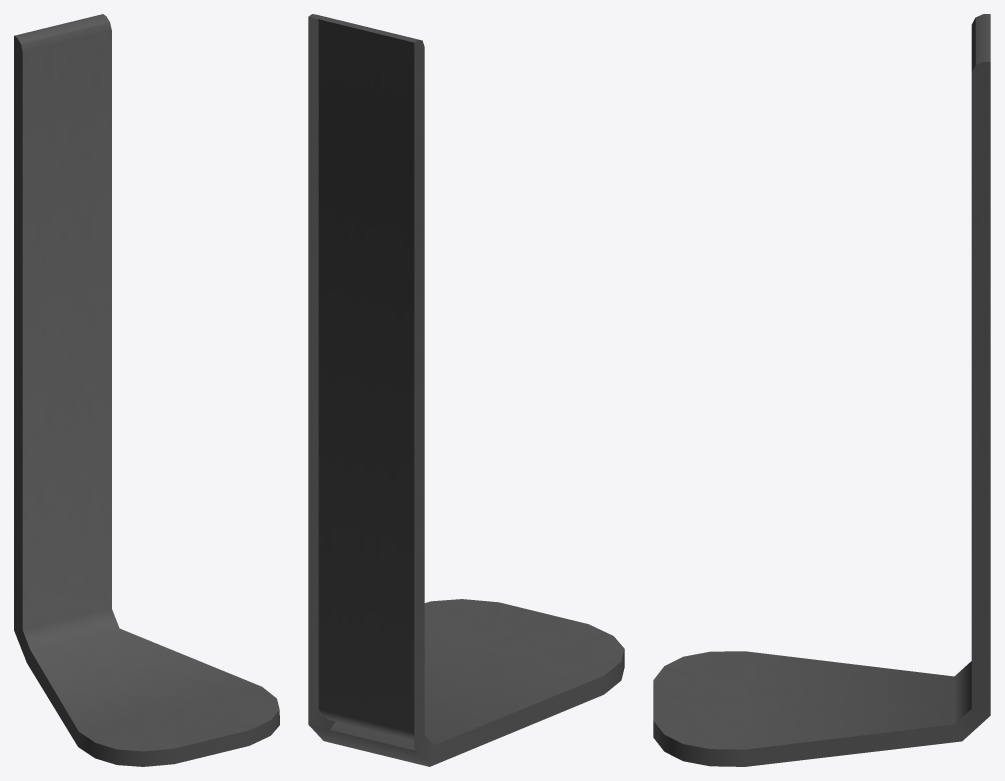
Rendered from Mirror_Foot.fbx.
3 renders of one model, left to right at view 1: azimuth 30°, elevation 25°; view 2: azimuth 150°, elevation 25°; view 3: azimuth 270°, elevation 25°, orthographic. The views are drawn at different scales.
Visible parts, largest first — view 1: Mirror_Foot; view 2: Mirror_Foot; view 3: Mirror_Foot.
Boxes of the visible parts, x1=… form: Mirror_Foot: x1=14, y1=14, x2=279, y2=766; Mirror_Foot: x1=308, y1=14, x2=624, y2=766; Mirror_Foot: x1=653, y1=14, x2=990, y2=766.
Bounding box in the file's own units: 0.4964 × 1.59 × 0.7144.
Materials: 1 (1 with a texture image).
